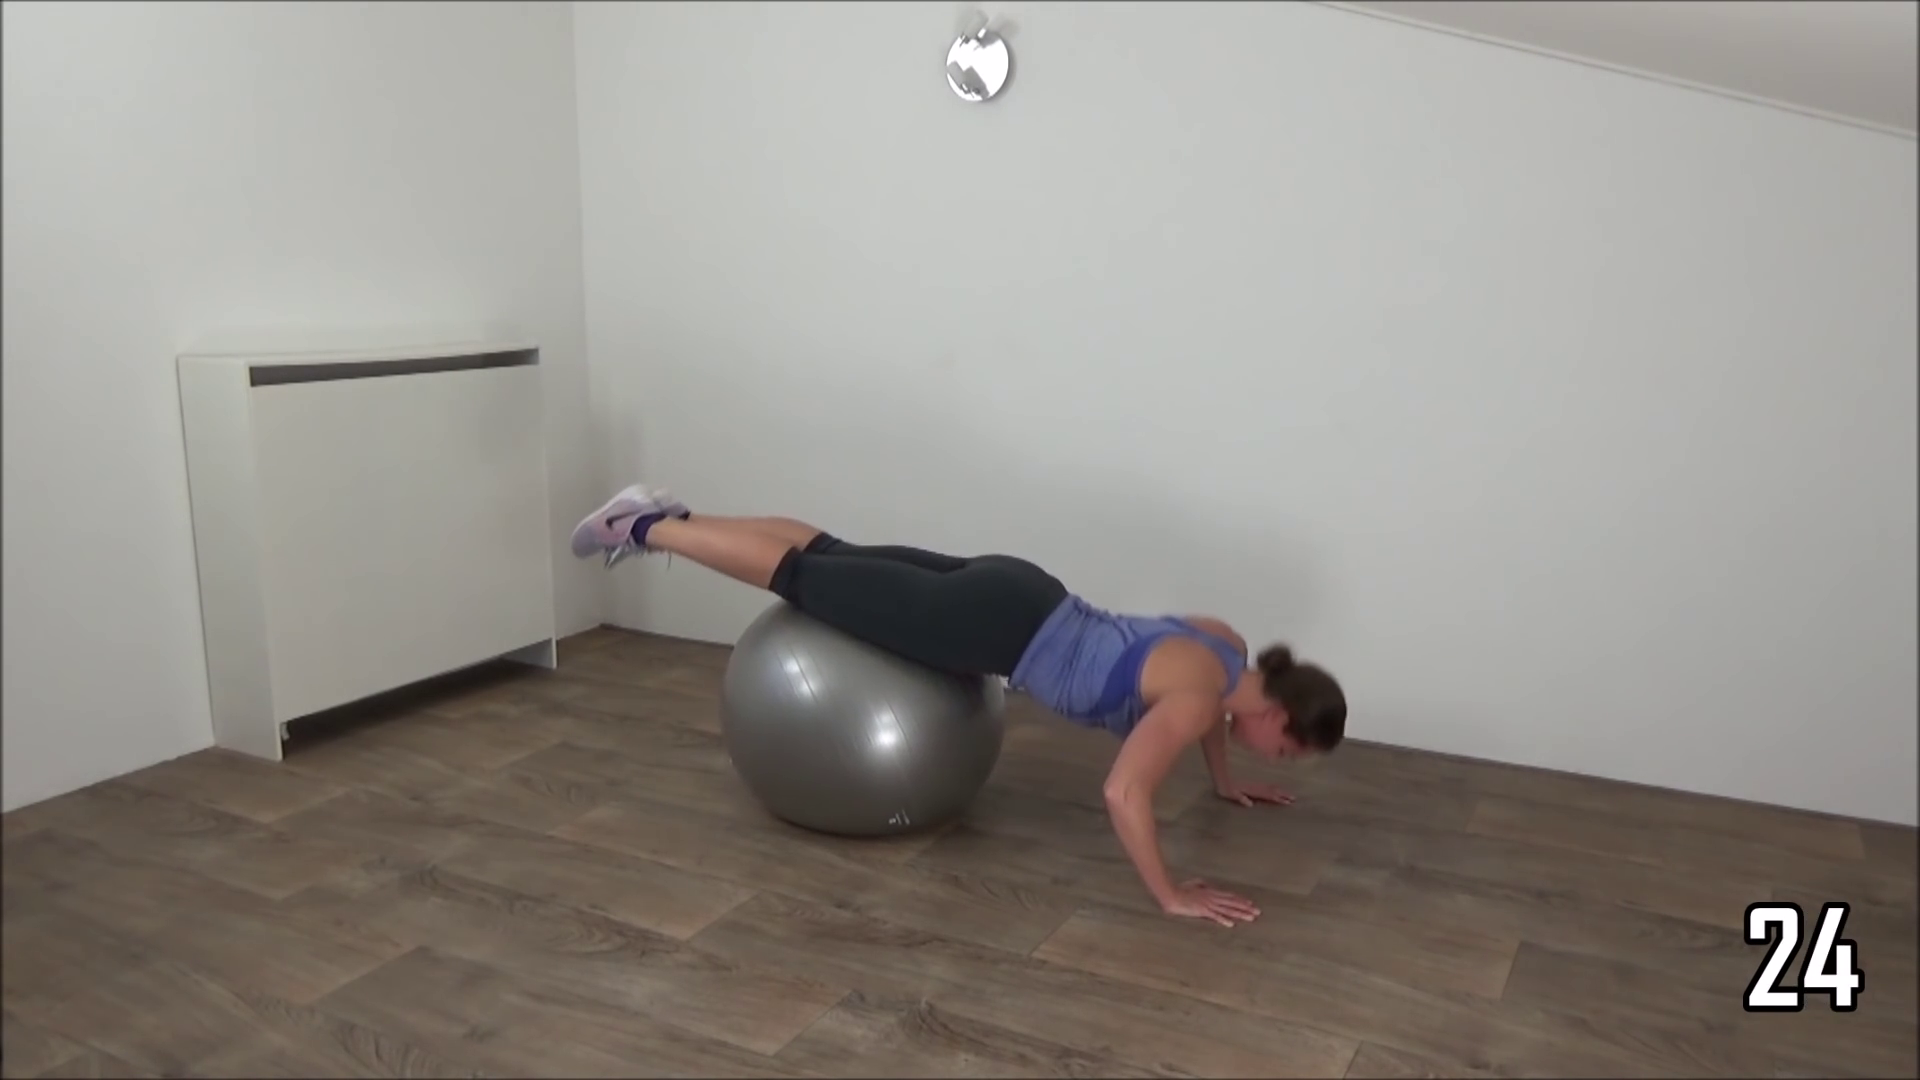yogaball: (700, 589, 1022, 855)
